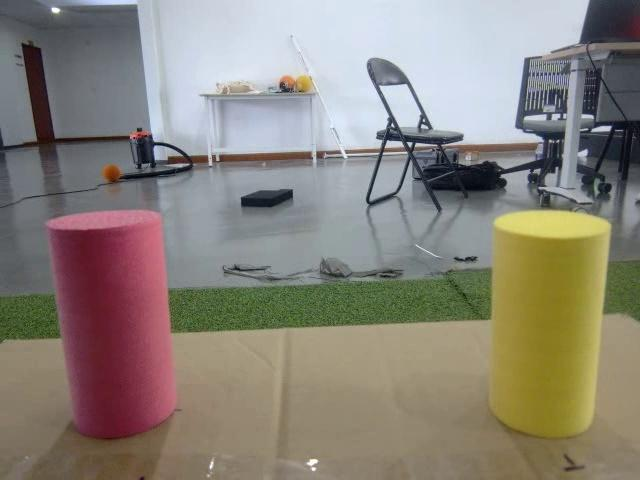red_cylinder: (37, 207, 186, 443)
yellow_cylinder: (490, 212, 609, 434)
